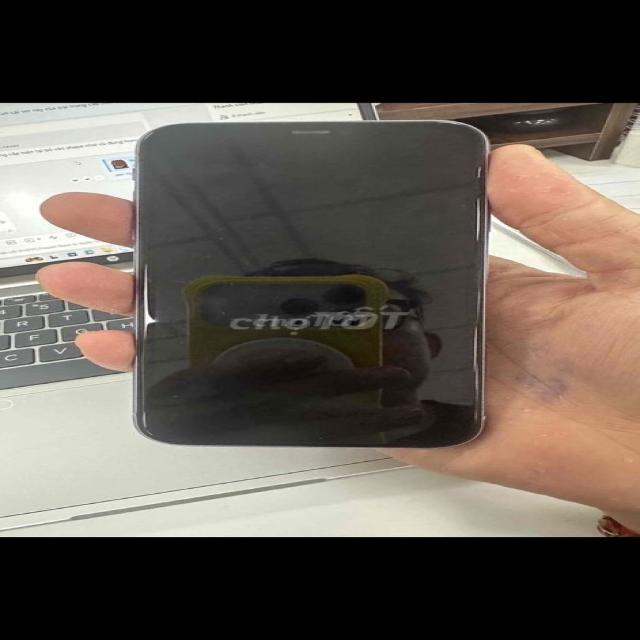gen_11: (115, 118, 486, 452)
